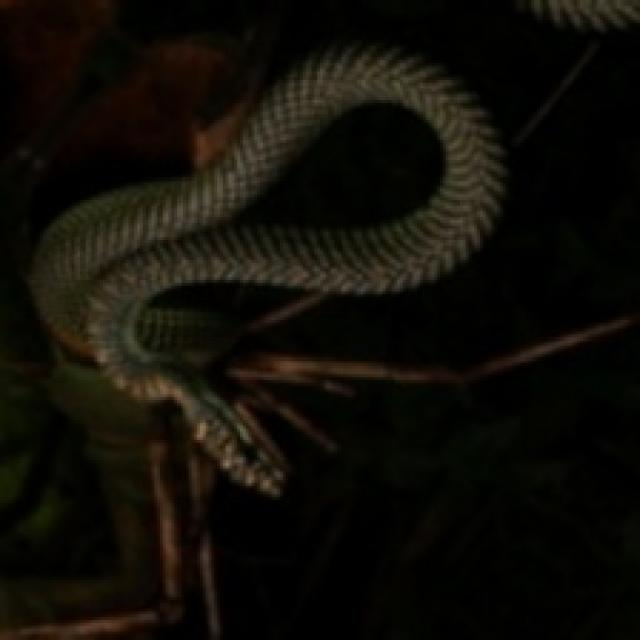paradise tree snake: (31, 46, 503, 494), (231, 100, 443, 229)
